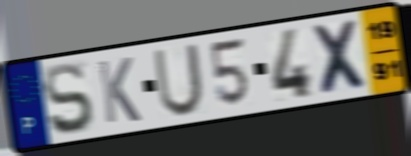4: (270, 25, 317, 101)
5: (206, 38, 253, 110)
K: (95, 55, 143, 126)
S: (41, 61, 97, 138)
U: (151, 41, 206, 119)
X: (308, 17, 374, 98)
